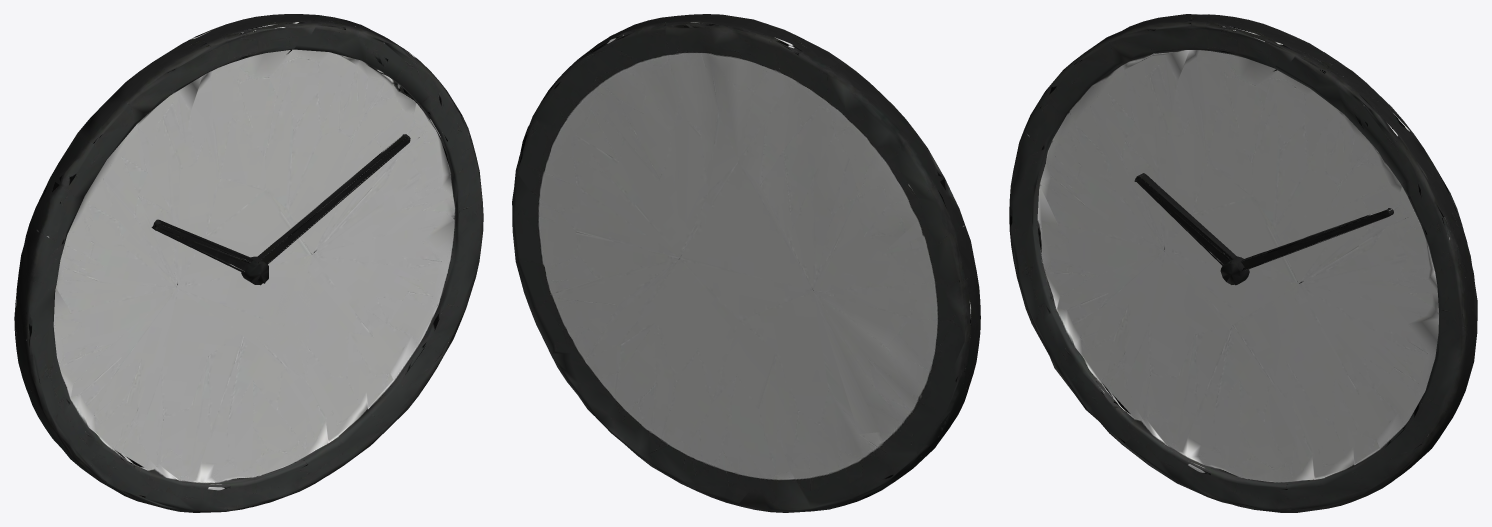
Rendered from mobile.glb.
3 views of the same model, side by side, from view 1: azimuth 30°, elevation 25°; view 2: azimuth 150°, elevation 25°; view 3: azimuth 330°, elevation 25° (orthographic).
Parts seen in each view (by area): view 1: wallclock; view 2: wallclock; view 3: wallclock.
Boxes of the visible parts, bbox=[...] form: wallclock: bbox=[14, 14, 483, 512]; wallclock: bbox=[512, 14, 980, 512]; wallclock: bbox=[1009, 14, 1477, 512].
Bounding box in the file's own units: 0.2999 × 0.3001 × 0.0233.
1 material, 1 textured.
